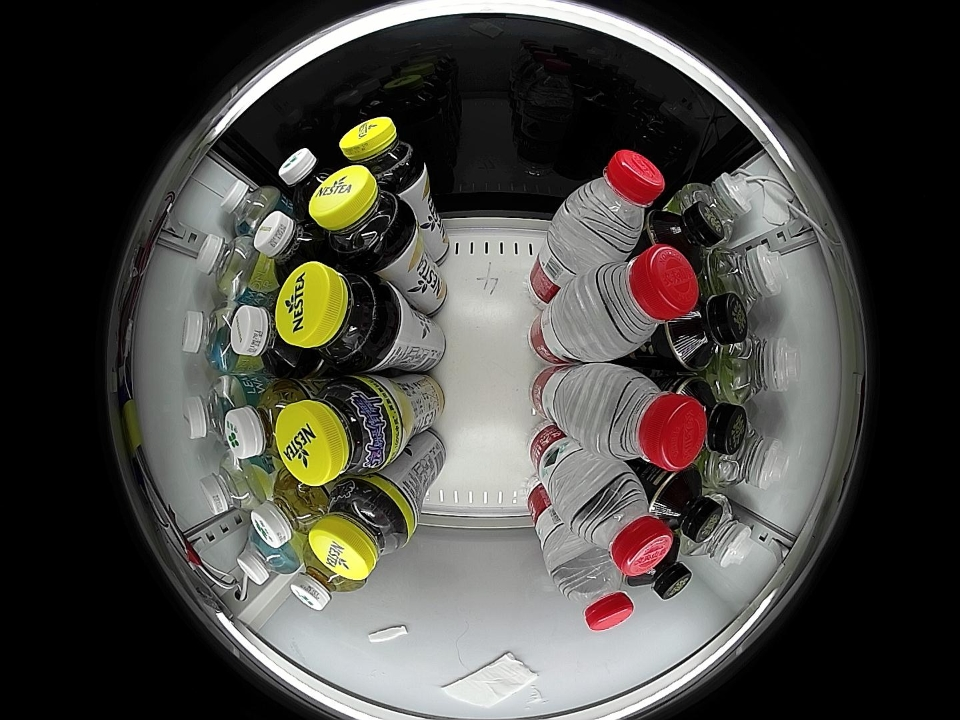baicha: (225, 379, 304, 460), (251, 472, 330, 547), (290, 548, 362, 611)
chacui: (276, 375, 402, 484), (276, 262, 400, 372), (309, 165, 417, 272), (310, 477, 415, 580), (339, 116, 424, 192)
damaicha: (279, 147, 340, 213)
jianjiao: (709, 418, 789, 491), (717, 332, 797, 404), (707, 244, 786, 315), (686, 494, 753, 568), (683, 172, 752, 242)
nongfushanquan: (568, 244, 698, 359), (583, 366, 706, 470), (568, 468, 673, 576), (559, 149, 665, 255), (554, 554, 635, 632)
qinningshui: (195, 233, 263, 299), (181, 303, 245, 373), (199, 453, 269, 515), (184, 376, 245, 442), (220, 179, 282, 236), (236, 529, 300, 584)
rancha-1: (665, 293, 748, 372), (649, 467, 724, 543), (677, 378, 749, 456), (647, 202, 725, 272), (631, 539, 692, 599)
wulongcha: (231, 303, 308, 375), (254, 212, 326, 276)
